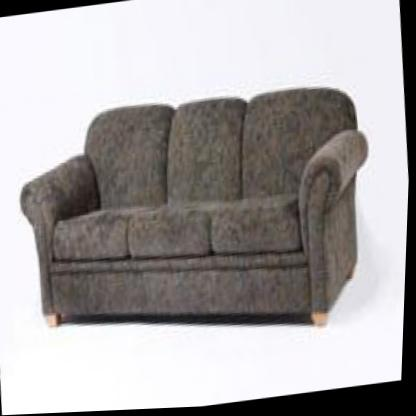Sofa: (10, 75, 392, 369)
